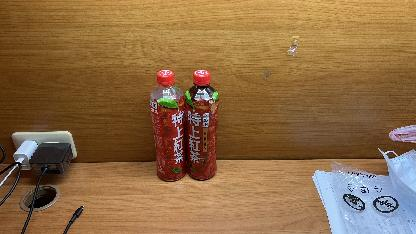Plastic Bottle: (149, 68, 187, 182), (185, 68, 219, 182)
